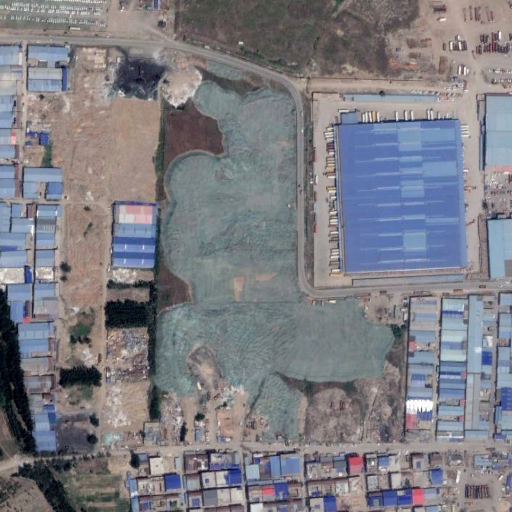cw: (156, 45, 409, 445)
